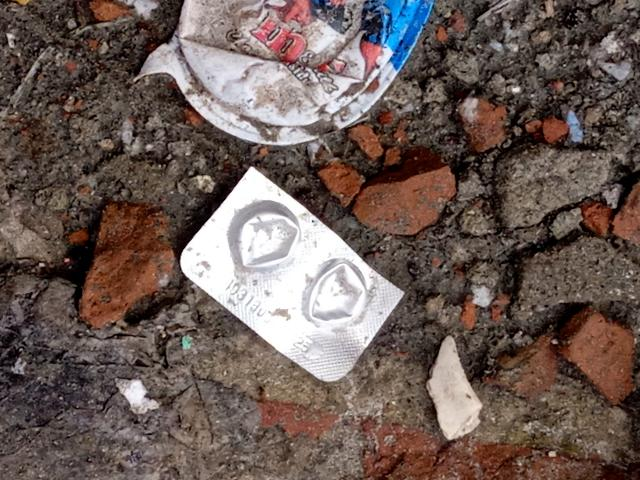medicine: (162, 152, 432, 397)
